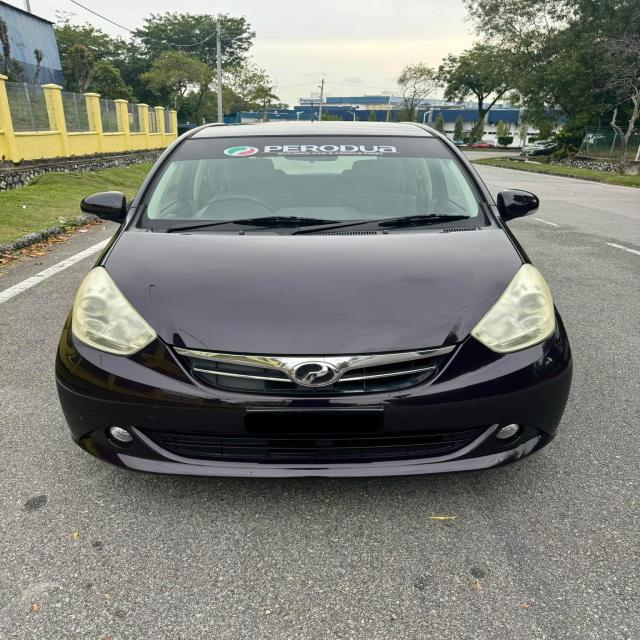PeroduaMyvi: (53, 118, 574, 479)
